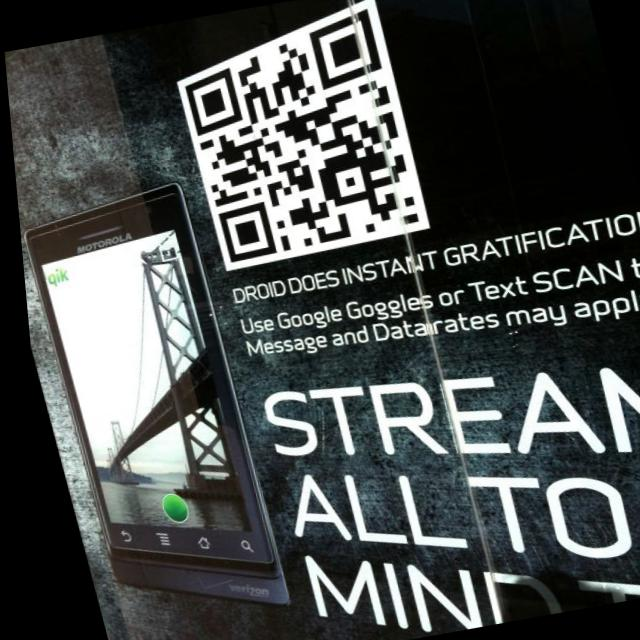qrcode: (170, 10, 424, 263)
